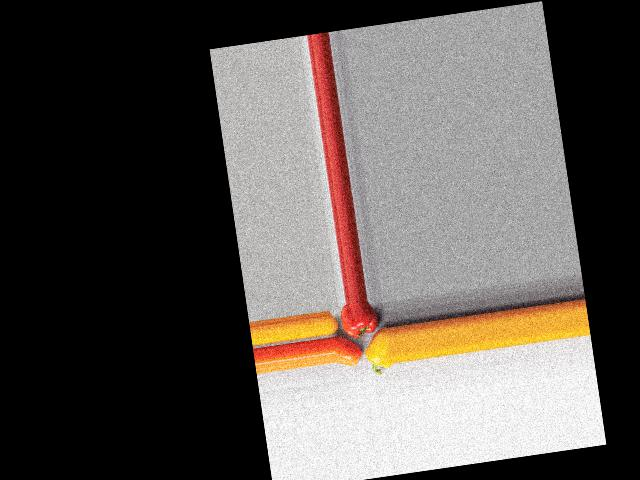bell_pepper: (339, 300, 382, 338)
